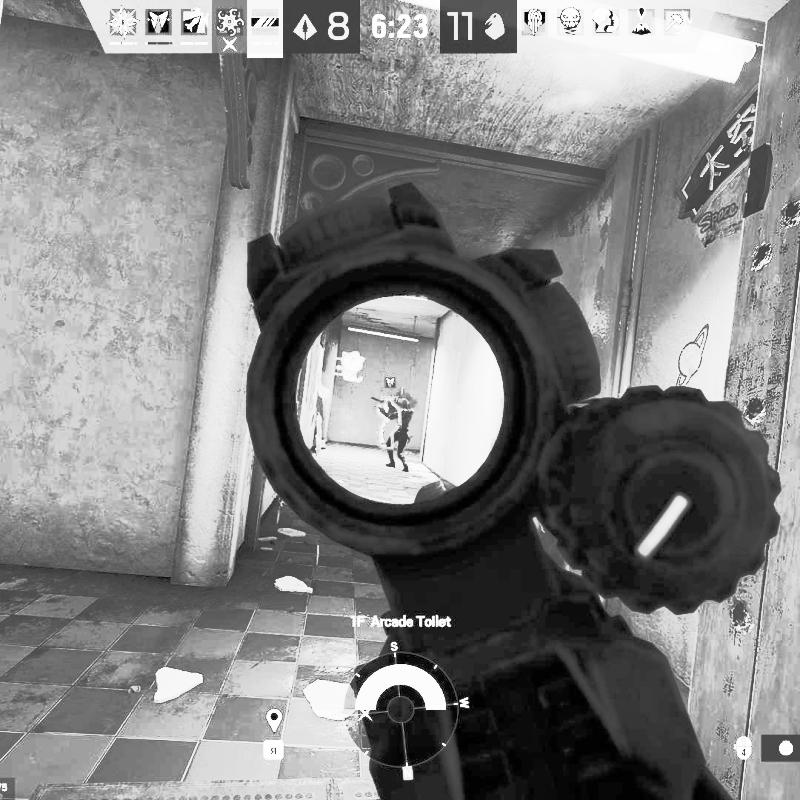Character: (384, 397, 416, 473)
Friend_label: (380, 376, 402, 402)
Head: (398, 398, 410, 409)
